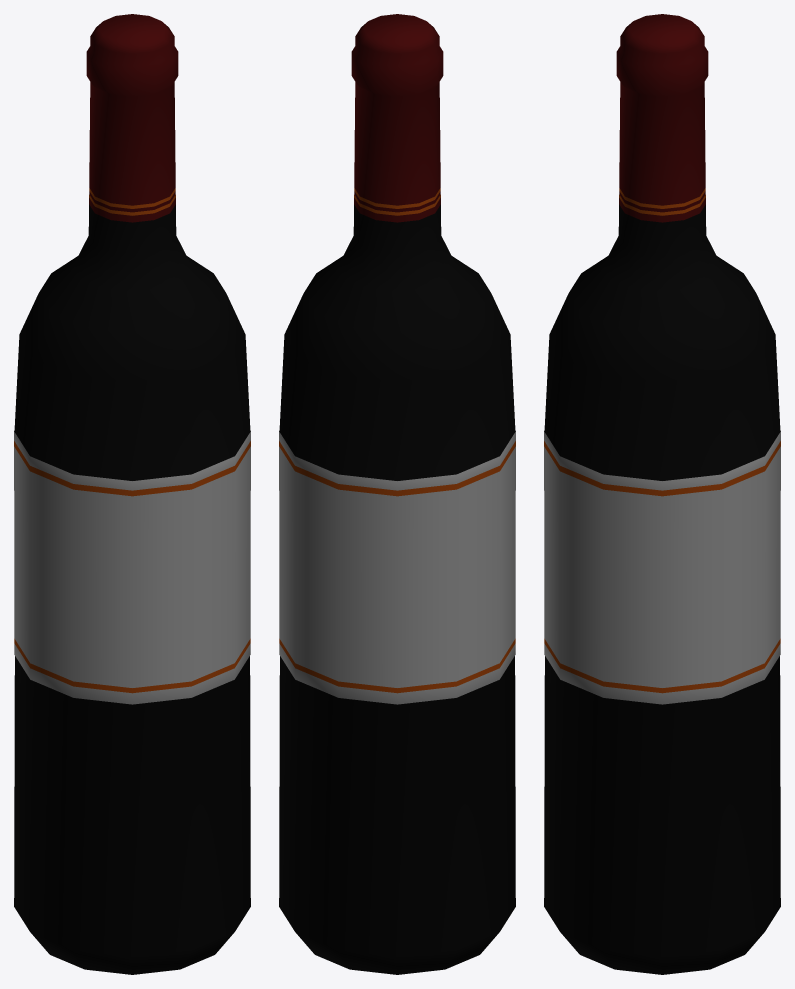
The model's file is WineBottle 1.fbx.
3 renders of one model, left to right at view 1: azimuth 30°, elevation 25°; view 2: azimuth 150°, elevation 25°; view 3: azimuth 270°, elevation 25°, orthographic.
Parts seen in each view (by area): view 1: Wine; view 2: Wine; view 3: Wine.
Part boxes in pixels (box(x1,y1,x2,y2)): Wine: box(14, 14, 250, 974); Wine: box(279, 14, 515, 974); Wine: box(544, 14, 780, 974).
Bounding box in the file's own units: 0.0937 × 0.3993 × 0.0937.
